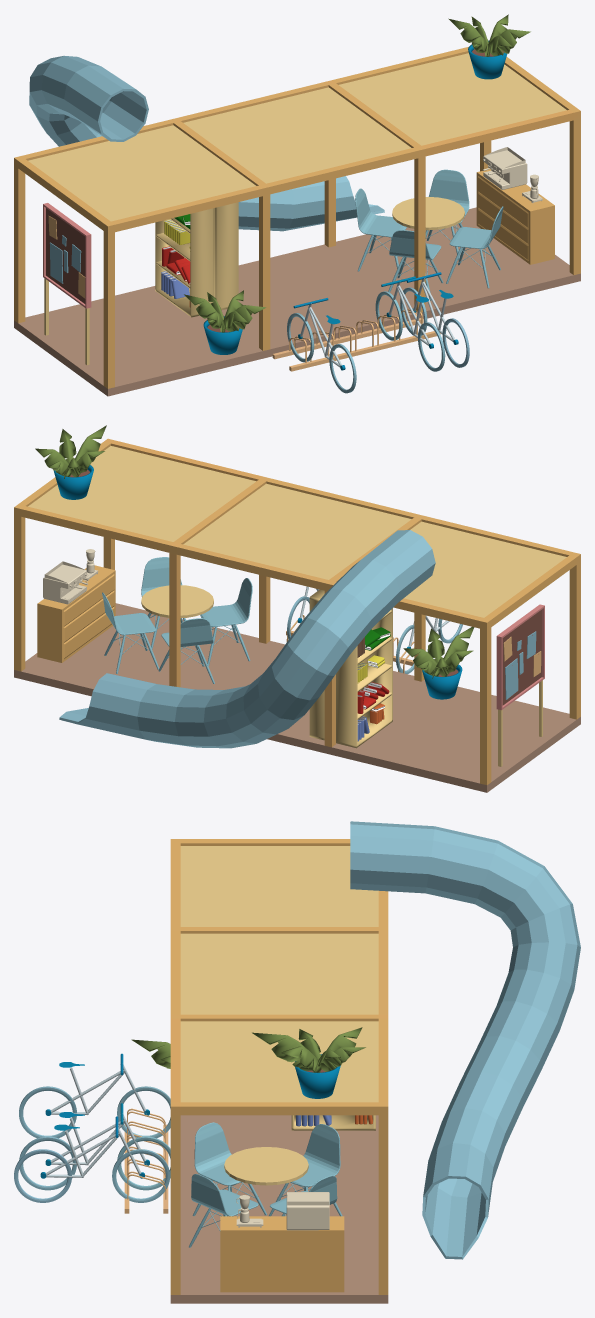
The model's file is NEBourhoodHub.fbx.
3 views of the same model, one above another, from view 1: azimuth 30°, elevation 25°; view 2: azimuth 150°, elevation 25°; view 3: azimuth 270°, elevation 25° (orthographic). The views are drawn at different scales.
Visible parts, largest first — view 1: NEBourhoodHub; view 2: NEBourhoodHub; view 3: NEBourhoodHub.
Part boxes in pixels (x1=…): NEBourhoodHub: x1=14, y1=14, x2=580, y2=396; NEBourhoodHub: x1=14, y1=425, x2=580, y2=792; NEBourhoodHub: x1=14, y1=821, x2=580, y2=1303.
Size of the model in its own units: 651 by 300 by 583.
